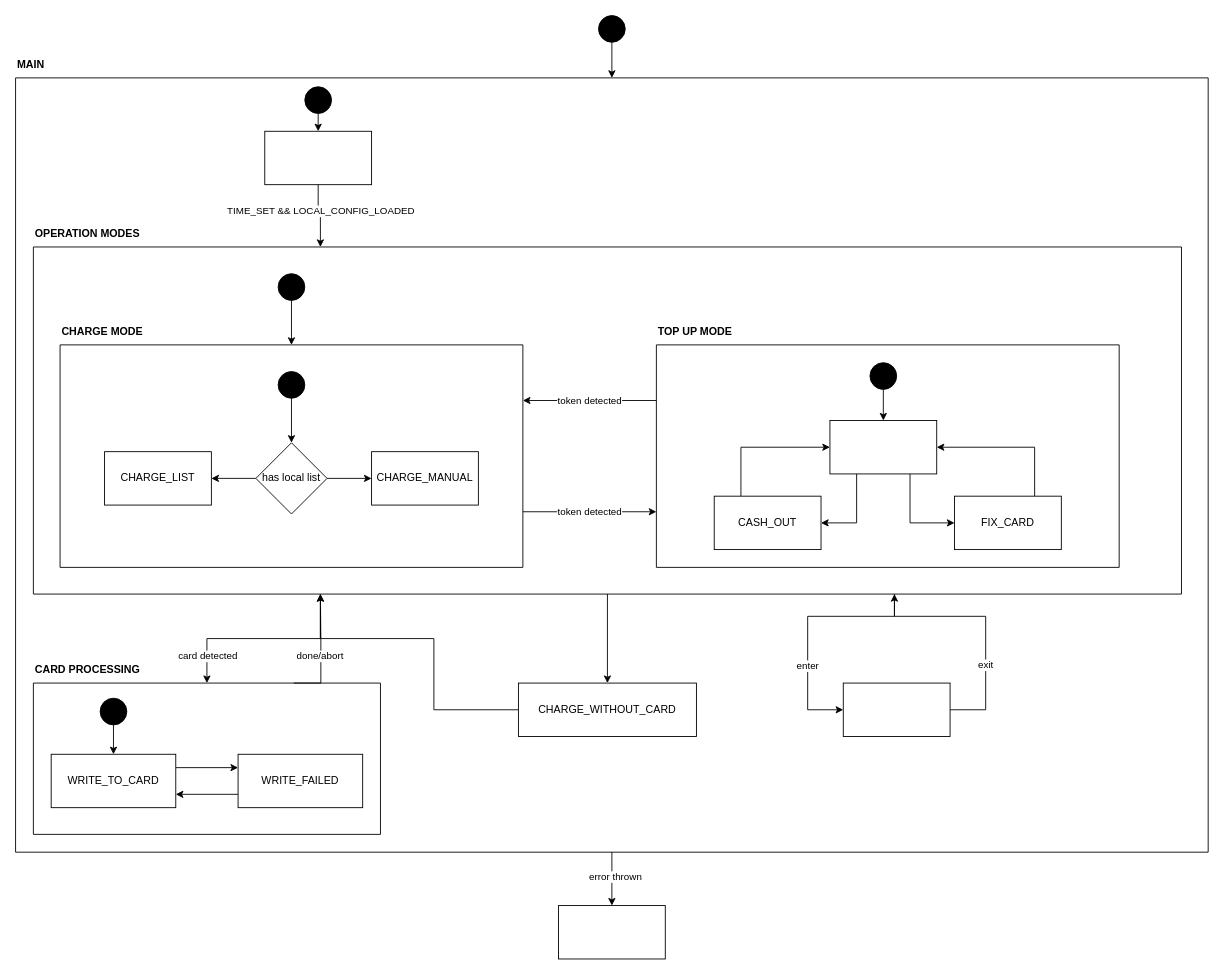
Some shapes in this 1224 by 975 pixel diagram are drawn without their labels. Each missing label, with the centre of its shape:
FATAL_ERROR: pixel 611 932
MENU: pixel 896 709
STARTING_UP: pixel 318 157
TOP_UP: pixel 883 447
